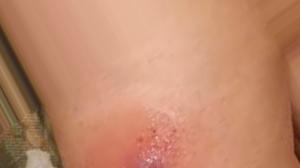Spider: (135, 106, 188, 167)
